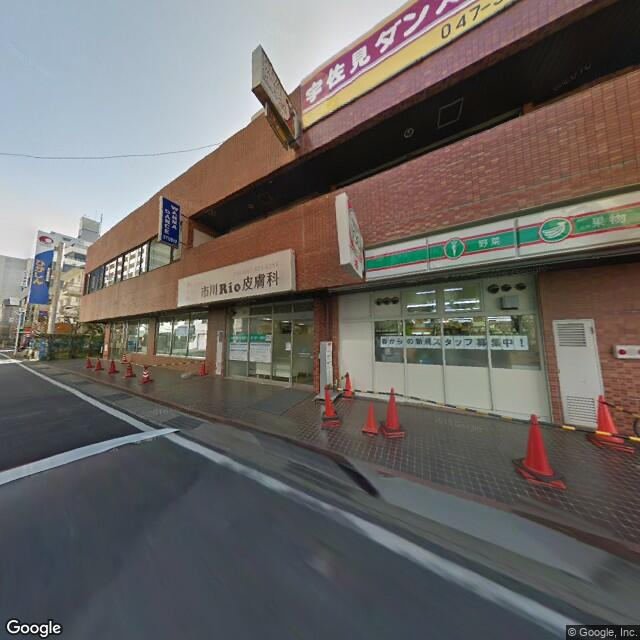lawson: (366, 189, 638, 283), (341, 201, 370, 265)
